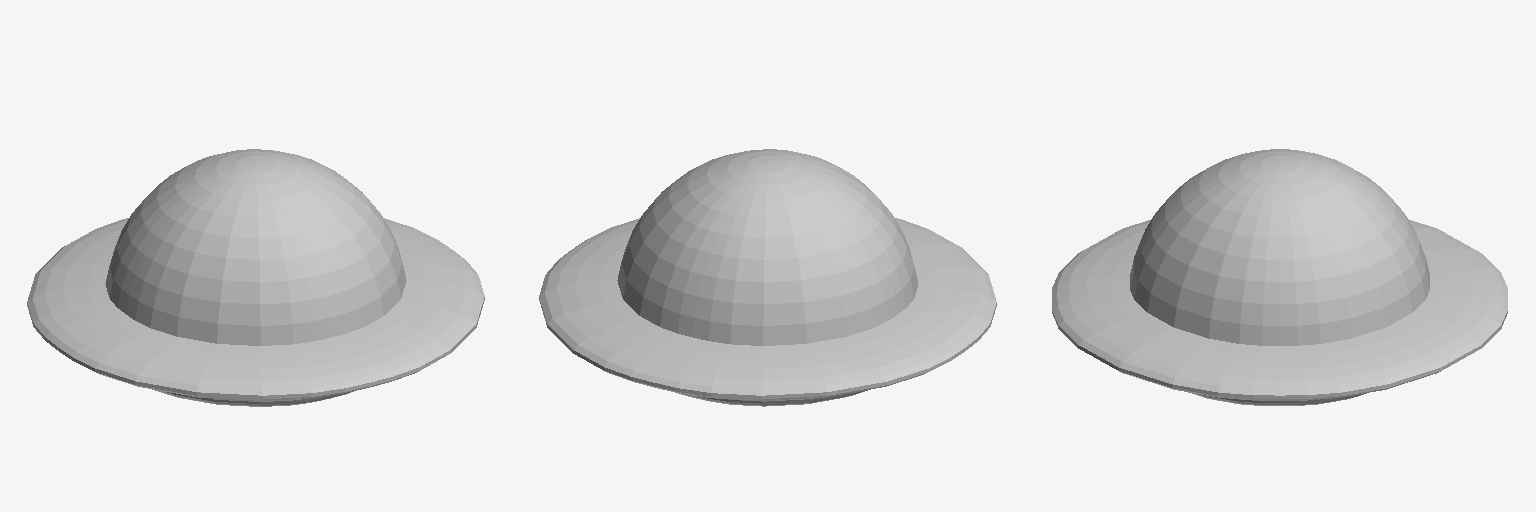
File: nave_sem_pernas.obj
3 renders of one model, left to right at view 1: azimuth 30°, elevation 25°; view 2: azimuth 150°, elevation 25°; view 3: azimuth 270°, elevation 25°, orthographic.
Visible parts, largest first — view 1: SurfSphere, SurfSphere.001, SurfTorus_SurfTorus.001; view 2: SurfSphere, SurfSphere.001, SurfTorus_SurfTorus.001; view 3: SurfSphere, SurfSphere.001, SurfTorus_SurfTorus.001.
Part boxes in pixels (bbox=[...]): SurfSphere: bbox=[105, 149, 406, 345]; SurfSphere.001: bbox=[27, 218, 484, 400]; SurfTorus_SurfTorus.001: bbox=[152, 389, 353, 406]; SurfSphere: bbox=[617, 149, 918, 345]; SurfSphere.001: bbox=[539, 218, 996, 400]; SurfTorus_SurfTorus.001: bbox=[675, 390, 867, 406]; SurfSphere: bbox=[1130, 149, 1429, 345]; SurfSphere.001: bbox=[1052, 219, 1507, 400]; SurfTorus_SurfTorus.001: bbox=[1188, 392, 1366, 405].
Bounding box in the file's own units: 12.7 × 5.68 × 12.7.